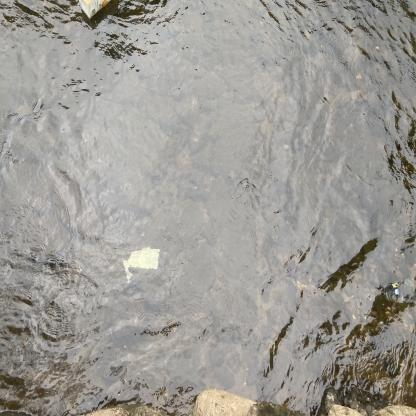trash: (119, 243, 163, 287), (383, 274, 416, 311), (75, 0, 113, 25)
